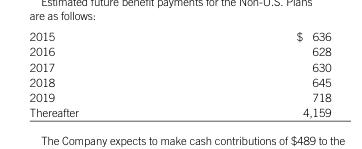table: (28, 29, 330, 118)
table column: (28, 29, 186, 118), (186, 29, 330, 118)
table row: (28, 73, 330, 89), (28, 43, 330, 58), (28, 58, 330, 73), (28, 89, 330, 104), (28, 29, 330, 43), (28, 104, 330, 118)
